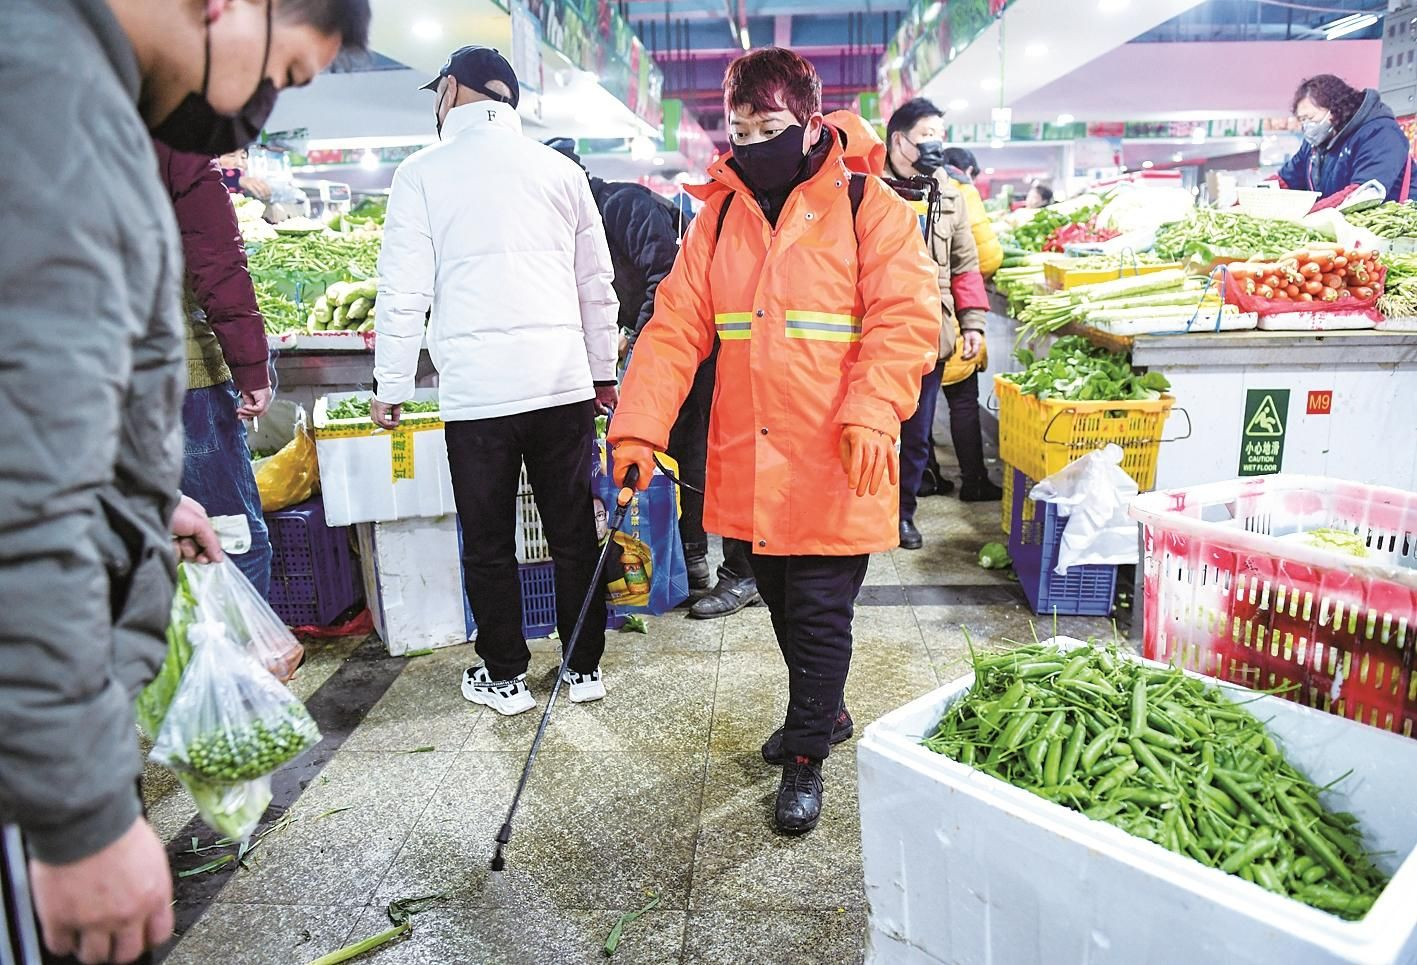rightmask: (64, 1, 403, 156), (720, 52, 843, 220), (1289, 72, 1378, 168), (883, 95, 956, 202)
